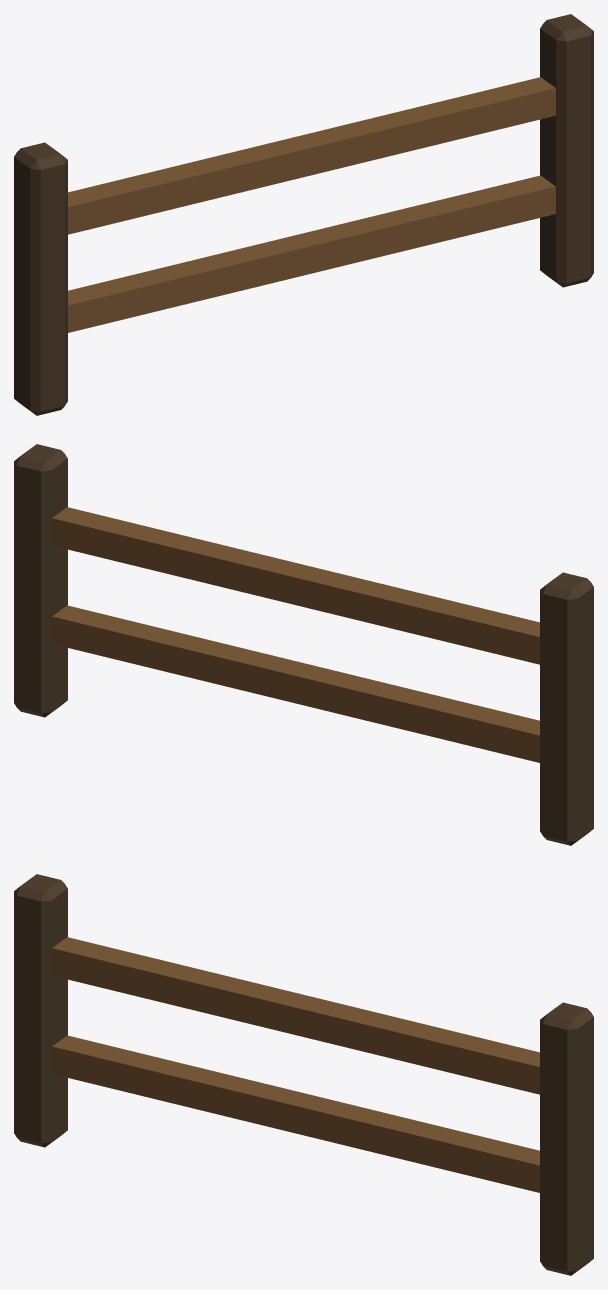
The model's file is wooden_fence.glb.
3 views of the same model, one above another, from view 1: azimuth 30°, elevation 25°; view 2: azimuth 150°, elevation 25°; view 3: azimuth 330°, elevation 25° (orthographic).
Visible parts, largest first — view 1: wooden_fence; view 2: wooden_fence; view 3: wooden_fence.
Boxes of the visible parts, left/top/right/bottom form: wooden_fence: left=14, top=14, right=593, bottom=415; wooden_fence: left=14, top=444, right=593, bottom=845; wooden_fence: left=14, top=874, right=593, bottom=1275.
Bounding box in the file's own units: 3 × 1.3 × 0.22.
